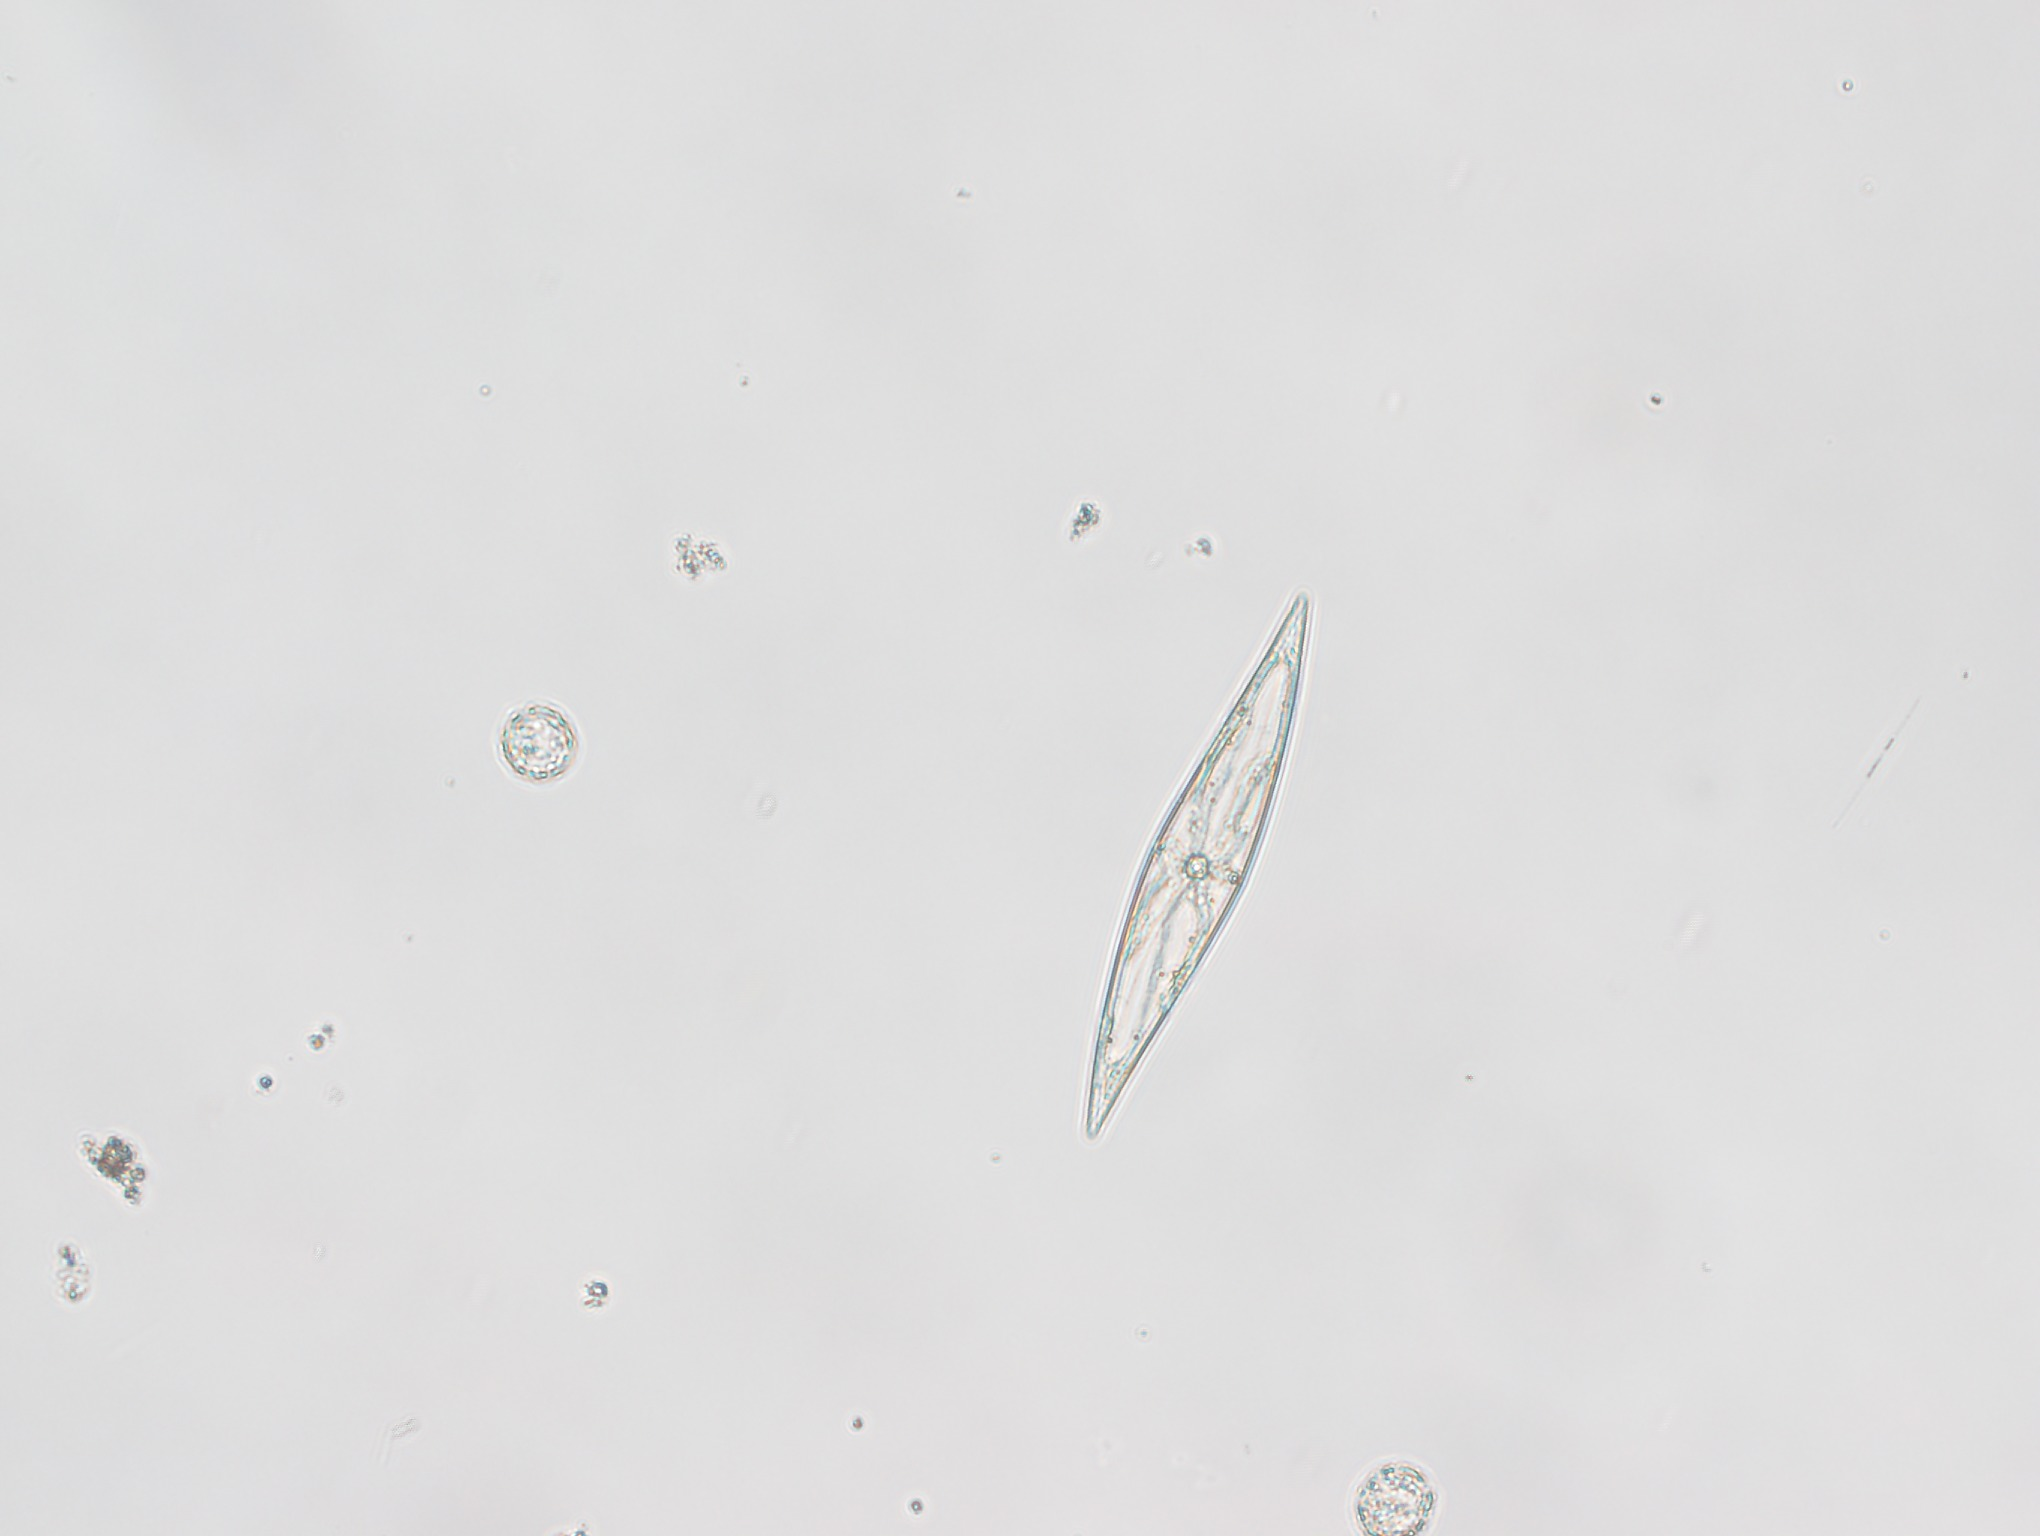pleurosigma pelagicum: (1072, 552, 1321, 1163)
